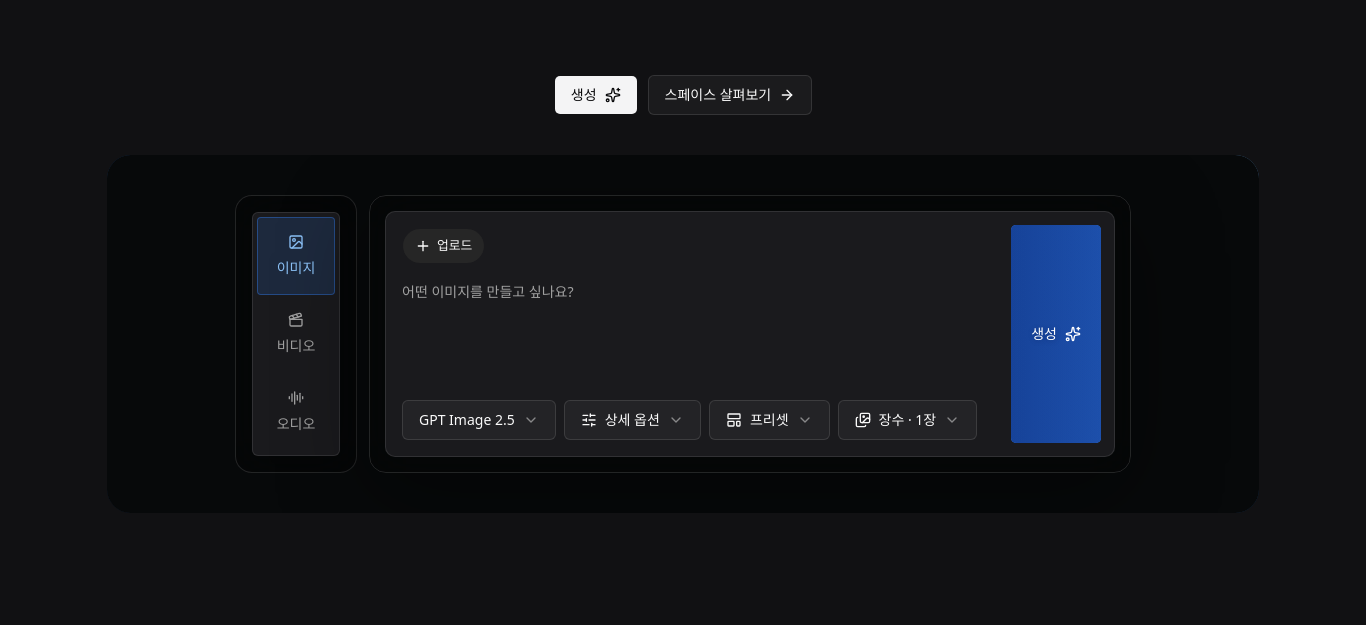
LandingHero › updates the preview and destination without submitting a generation
(page scrolled)
Click the tab "오디오" at (296, 412), box [257,372,335,450]
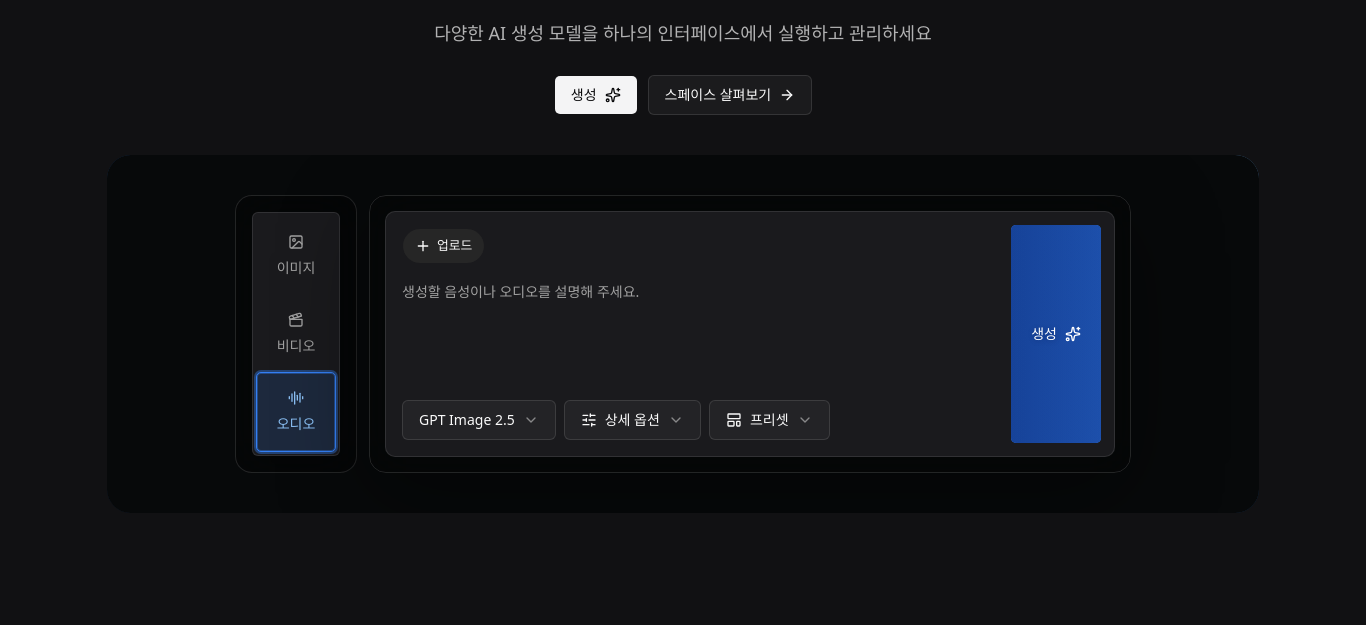
Expected: the text "생성할 음성이나 오디오를 설명해 주세요." is shown, [402,282,639,300]
